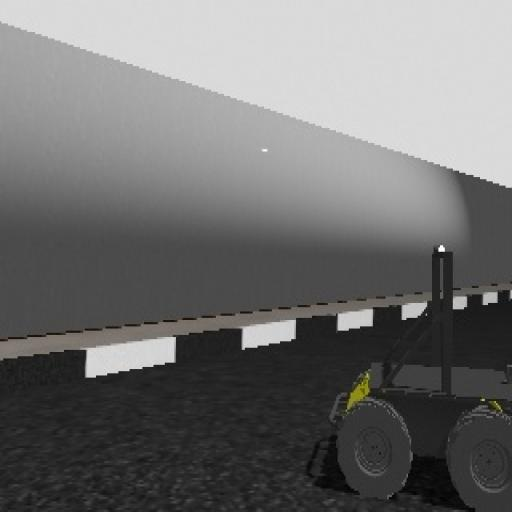huskya200: (270, 220, 512, 498)
